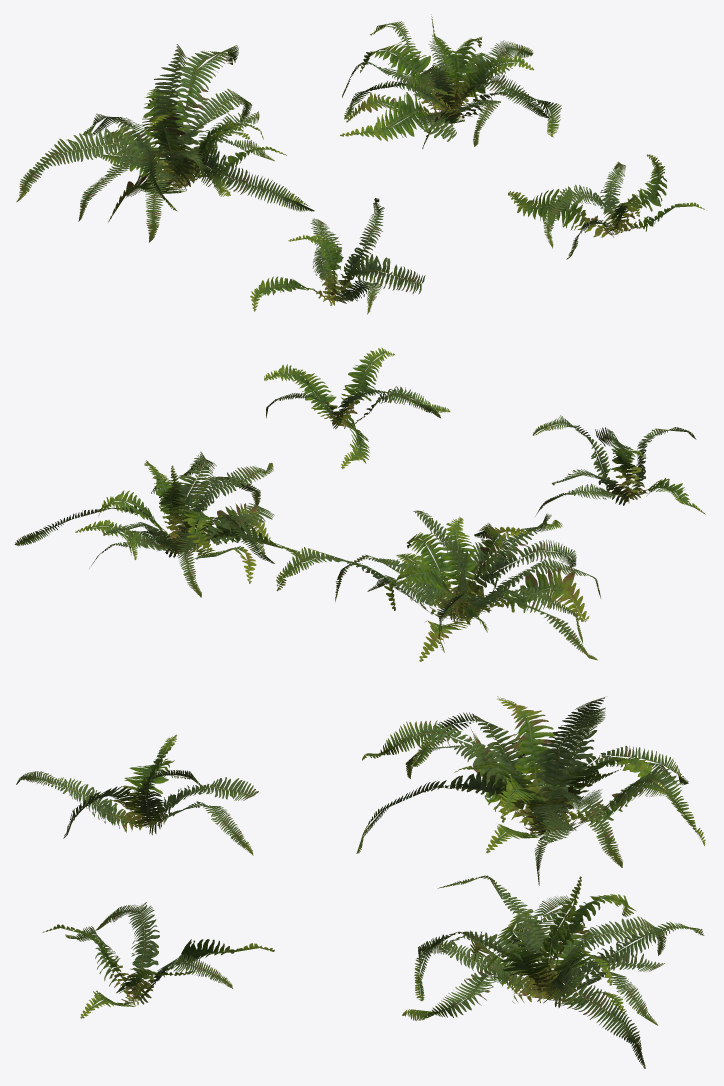
Rendered from cavern_fern.glb.
3 renders of one model, top to bottom at view 1: azimuth 30°, elevation 25°; view 2: azimuth 150°, elevation 25°; view 3: azimuth 270°, elevation 25°, orthographic. The views are drawn at different scales.
Parts seen in each view (by area): view 1: fern_02_b, fern_02_c, fern_02_a, fern_02_d; view 2: fern_02_b, fern_02_c, fern_02_d, fern_02_a; view 3: fern_02_b, fern_02_c, fern_02_a, fern_02_d.
Boxes of the visible parts, left/top/right/bottom form: fern_02_b: left=16, top=44, right=314, bottom=242; fern_02_c: left=340, top=14, right=561, bottom=148; fern_02_a: left=250, top=198, right=425, bottom=314; fern_02_d: left=508, top=154, right=706, bottom=259; fern_02_b: left=276, top=510, right=600, bottom=661; fern_02_c: left=14, top=451, right=302, bottom=597; fern_02_d: left=264, top=347, right=450, bottom=468; fern_02_a: left=533, top=415, right=705, bottom=516; fern_02_b: left=356, top=696, right=705, bottom=885; fern_02_c: left=402, top=875, right=704, bottom=1068; fern_02_a: left=16, top=734, right=258, bottom=855; fern_02_d: left=42, top=902, right=274, bottom=1018.
Bounding box in the file's own units: 1.97 × 0.4377 × 1.72.
Materials: 1 (1 with a texture image).
